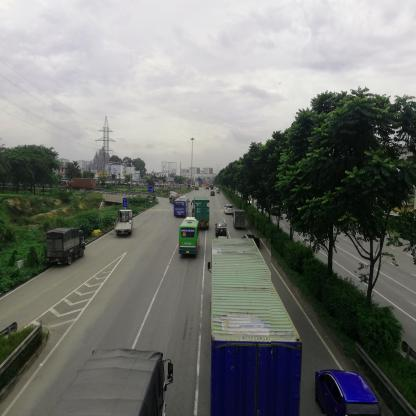bus: (179, 221, 200, 256), (175, 199, 189, 218)
car: (316, 373, 376, 415), (216, 224, 227, 239), (226, 206, 234, 215)
container: (214, 239, 272, 416), (68, 179, 99, 190), (196, 201, 211, 222)
truck: (47, 229, 86, 265), (115, 212, 133, 238), (235, 211, 246, 227)
